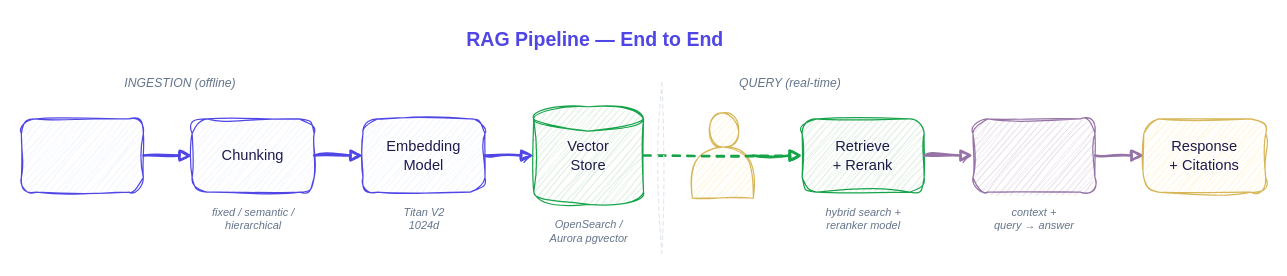
This 1287x276 diagram has some shape labels left out. The shapes that lost their labels are listed below. From the top down, each one's centre as x and y in pixels, then its label:
At point 81,155: "S3 Documents".
At point 722,155: "User Query".
At point 1033,155: "Foundation Model".
